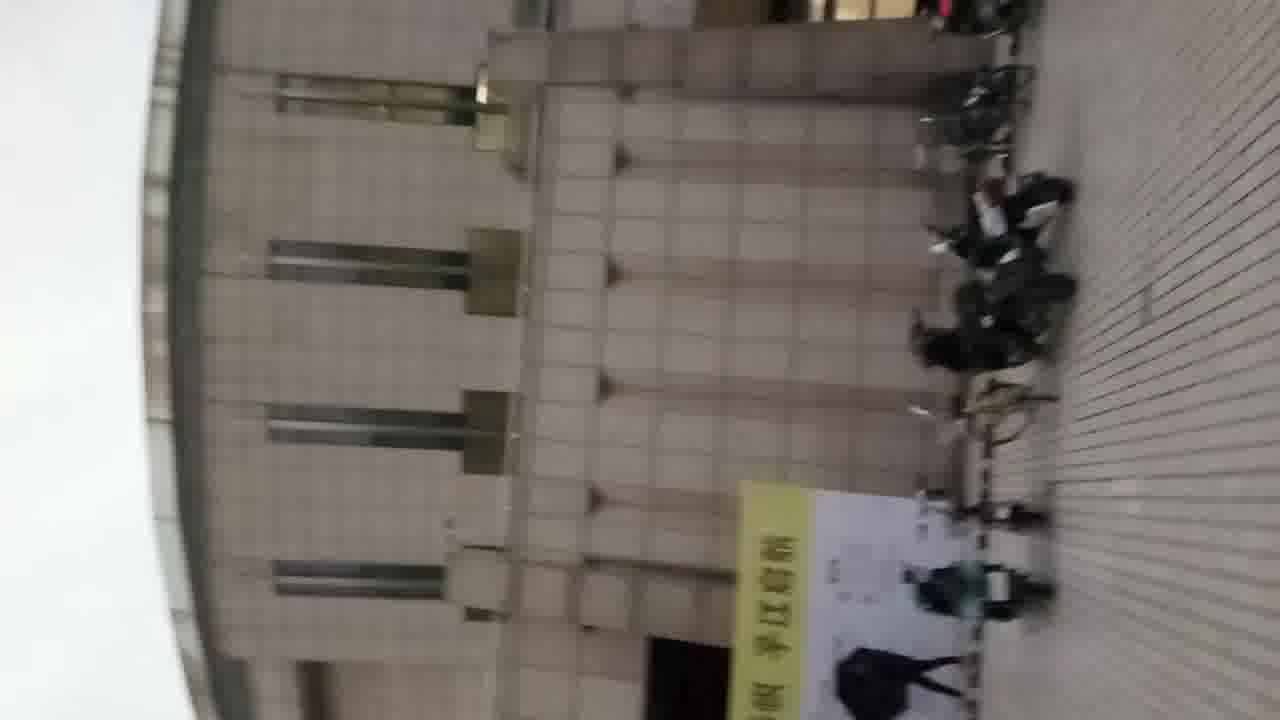zhongtiww: (133, 8, 986, 720)
